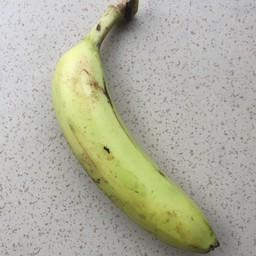Banana Ripe: (37, 15, 237, 256)
